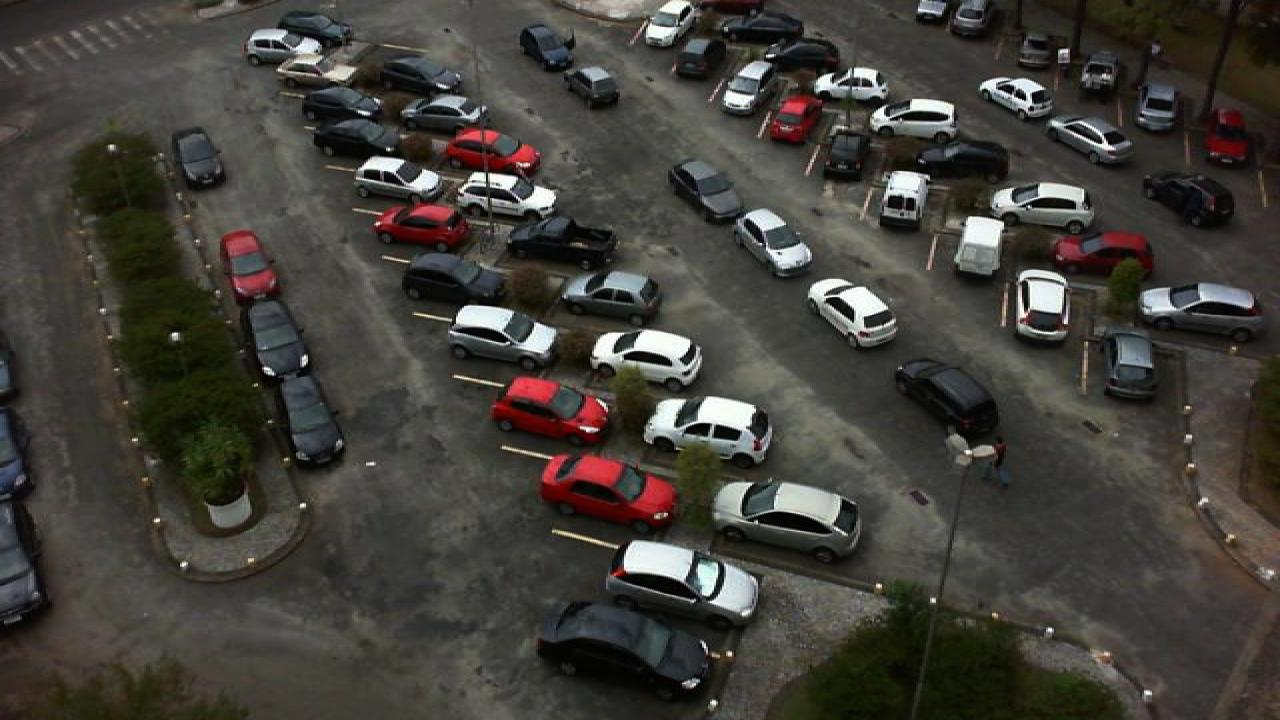Car: (532, 598, 714, 702), (604, 539, 762, 632), (708, 478, 864, 564), (538, 452, 680, 536), (638, 394, 778, 467), (488, 375, 612, 446), (890, 358, 1002, 434), (1136, 281, 1266, 343), (588, 327, 704, 394), (444, 304, 562, 369), (804, 277, 900, 350), (502, 215, 620, 272), (730, 207, 818, 277), (556, 269, 666, 324), (400, 252, 506, 309), (988, 181, 1094, 237), (666, 158, 748, 228), (282, 374, 344, 466), (1052, 230, 1158, 282), (1140, 172, 1238, 228), (452, 170, 560, 220), (370, 203, 474, 253), (442, 127, 542, 177), (246, 300, 310, 378), (274, 44, 382, 88), (352, 155, 448, 204), (1012, 269, 1072, 343), (868, 97, 960, 145), (220, 229, 280, 302), (1046, 116, 1134, 165), (1100, 330, 1160, 400), (952, 214, 1010, 286), (914, 136, 1010, 179), (310, 118, 400, 161), (398, 93, 490, 134), (878, 168, 936, 232), (976, 74, 1054, 120), (170, 126, 226, 188), (298, 84, 384, 124), (810, 65, 888, 109), (718, 60, 780, 114), (242, 27, 320, 69), (764, 93, 824, 145), (756, 37, 842, 72), (518, 23, 576, 73), (642, 0, 700, 48), (720, 9, 806, 41), (824, 124, 872, 181), (1204, 108, 1252, 165), (276, 9, 354, 44), (562, 64, 622, 109), (670, 36, 724, 81), (1134, 82, 1176, 132), (1080, 54, 1118, 100), (1018, 28, 1056, 71), (950, 0, 990, 37), (912, 0, 946, 24)
